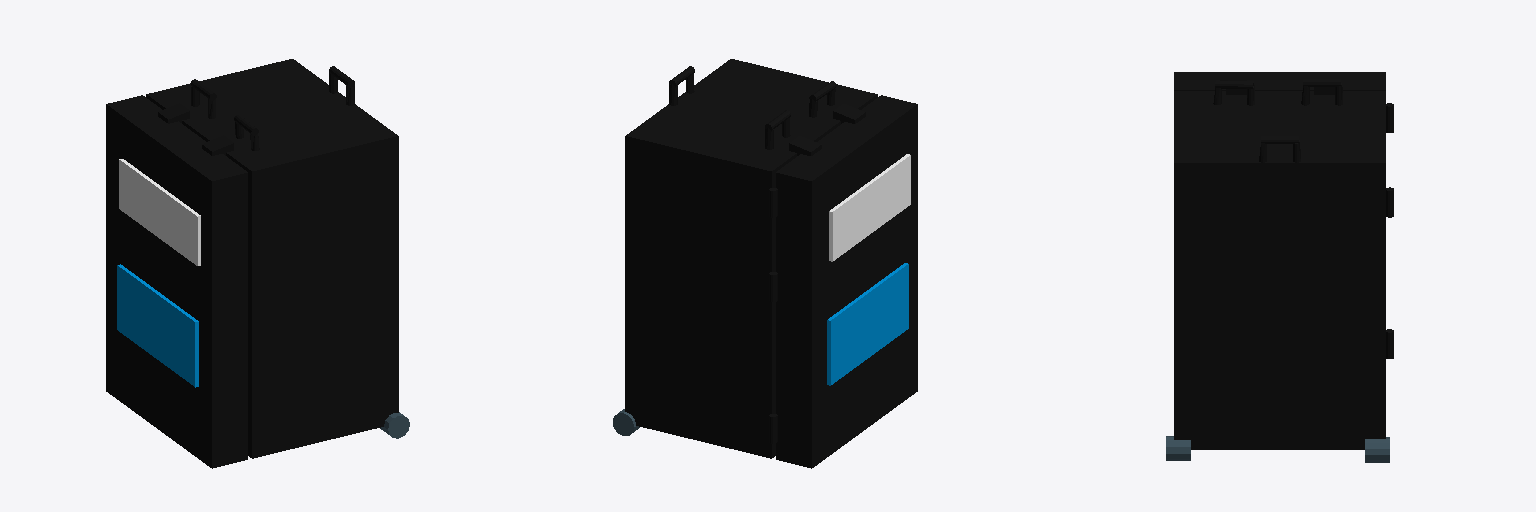
3 views of the same model, side by side, from view 1: azimuth 30°, elevation 25°; view 2: azimuth 150°, elevation 25°; view 3: azimuth 270°, elevation 25° (orthographic).
Parts seen in each view (by area): view 1: group[number redacted], group[number redacted], group[number redacted], group[number redacted]; view 2: group[number redacted], group[number redacted], group[number redacted], group[number redacted]; view 3: group[number redacted], group[number redacted], group[number redacted], group[number redacted].
Boxes of the visible parts, box(x1,y1,x2,y2) form: group[number redacted]: box(146, 59, 398, 458); group[number redacted]: box(106, 95, 247, 468); group[number redacted]: box(117, 264, 198, 387); group[number redacted]: box(119, 159, 200, 265); group[number redacted]: box(625, 59, 877, 458); group[number redacted]: box(776, 95, 917, 468); group[number redacted]: box(827, 263, 908, 385); group[number redacted]: box(829, 154, 910, 261); group[number redacted]: box(1174, 91, 1385, 449); group[number redacted]: box(1174, 72, 1385, 90); group[number redacted]: box(1365, 437, 1389, 462); group[number redacted]: box(1166, 436, 1190, 460).
Size of the model in its own units: 0.55 by 0.845 by 0.54.